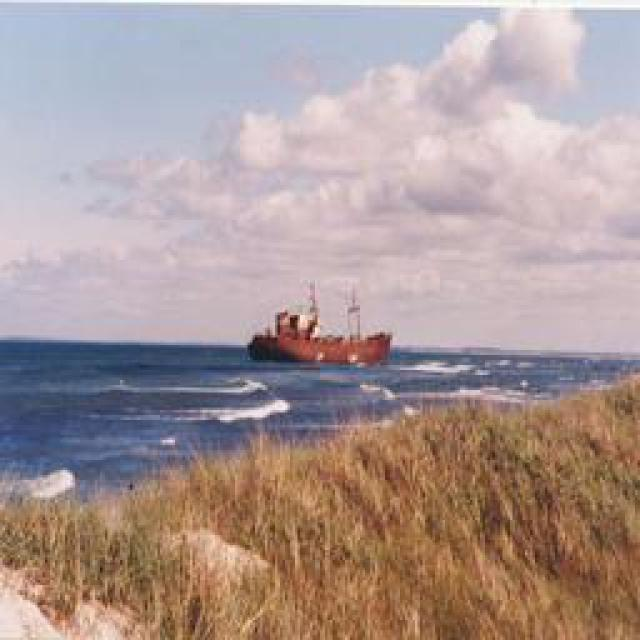Ship: (248, 279, 393, 369)
